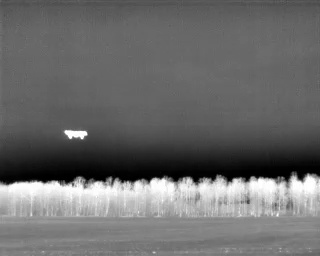DRONE: (59, 124, 91, 145)
